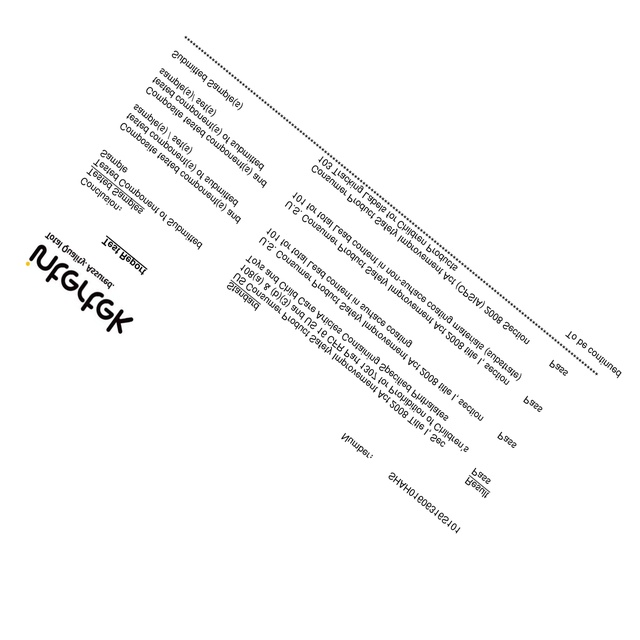intertek: (23, 240, 136, 340)
